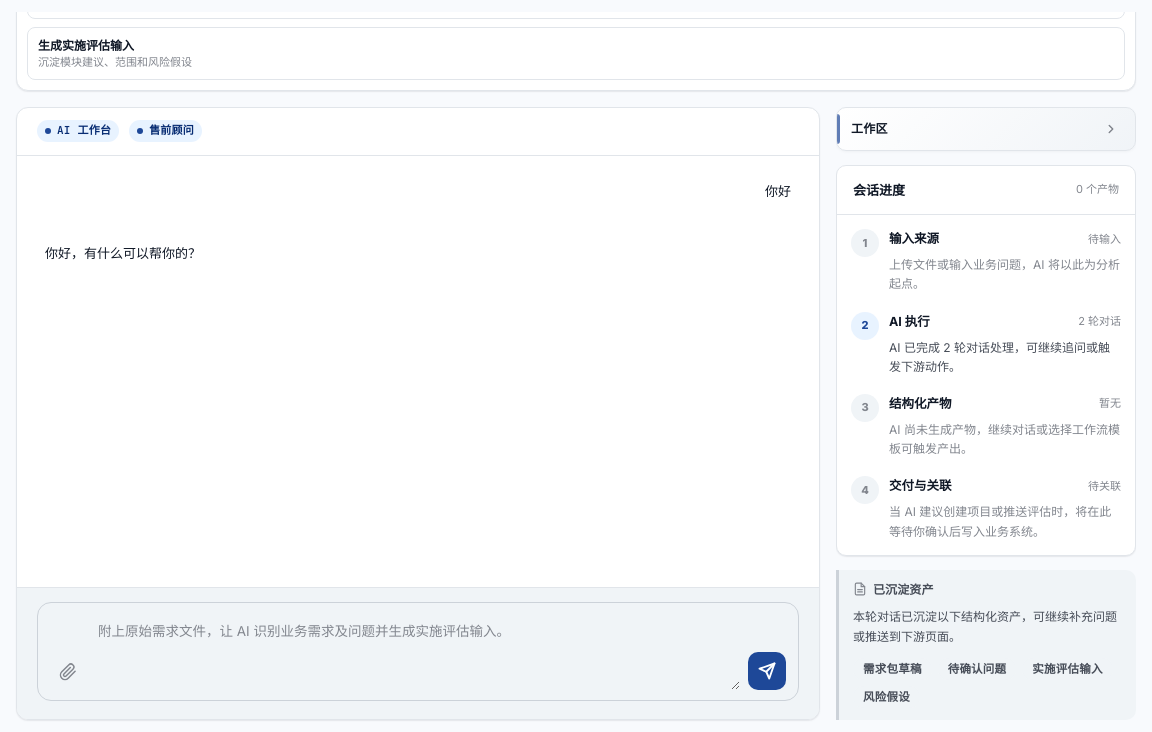
Scenario: run-submit: Step 3 前端发送路径 Run 化 › run-submit: 503 时自动回退旧同步路径
The image size is (1152, 732).
(page scrolled)
Expected: the text "你好，有什么可以帮你的？" is shown, top-left (45, 242), bottom-right (201, 264)
Step 1. Type "我的问题" into the text box → x=417, y=651, box top-left (94, 613), bottom-right (740, 690)
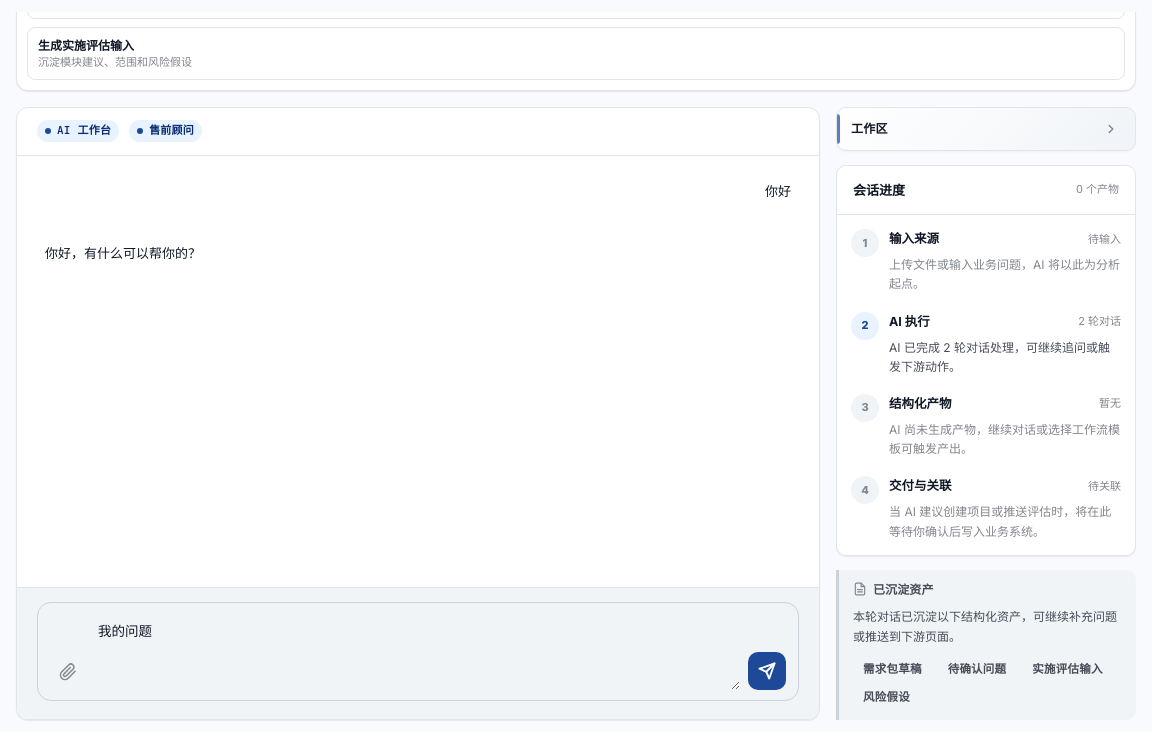
Step 2. Click the button named "发送消息" → x=767, y=671, box top-left (748, 652), bottom-right (786, 690)
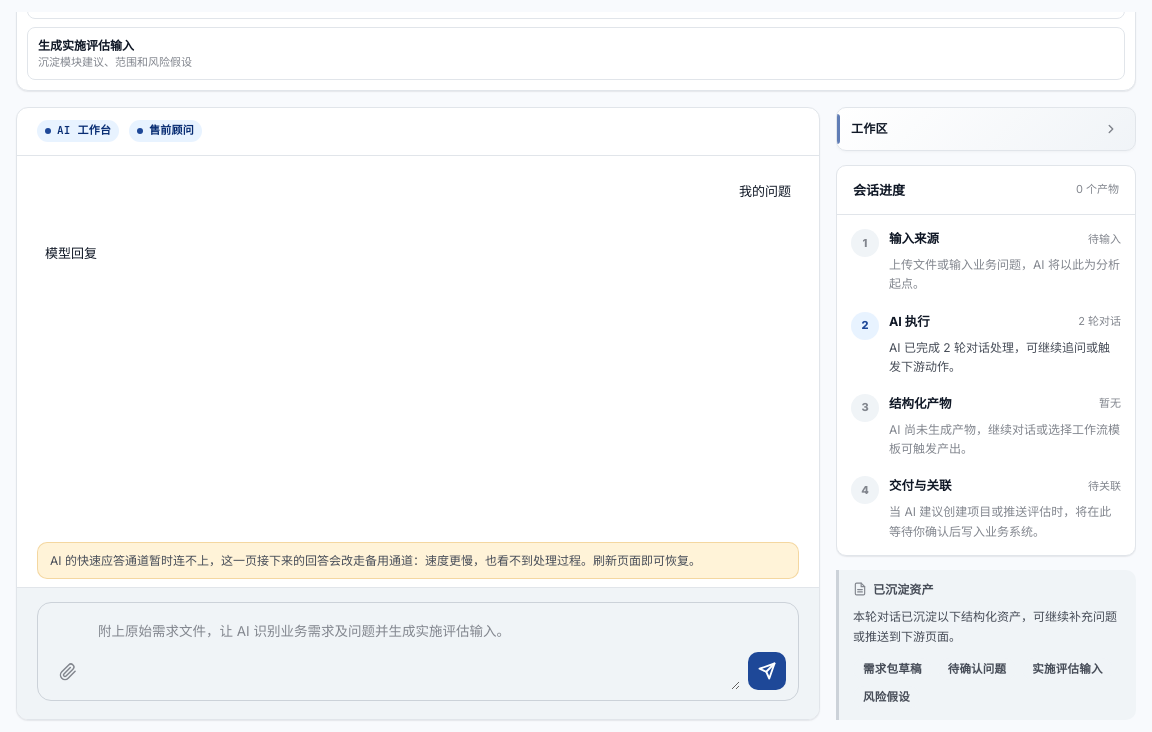
Expected: the text "模型回复" is shown, top-left (45, 245), bottom-right (97, 261)
